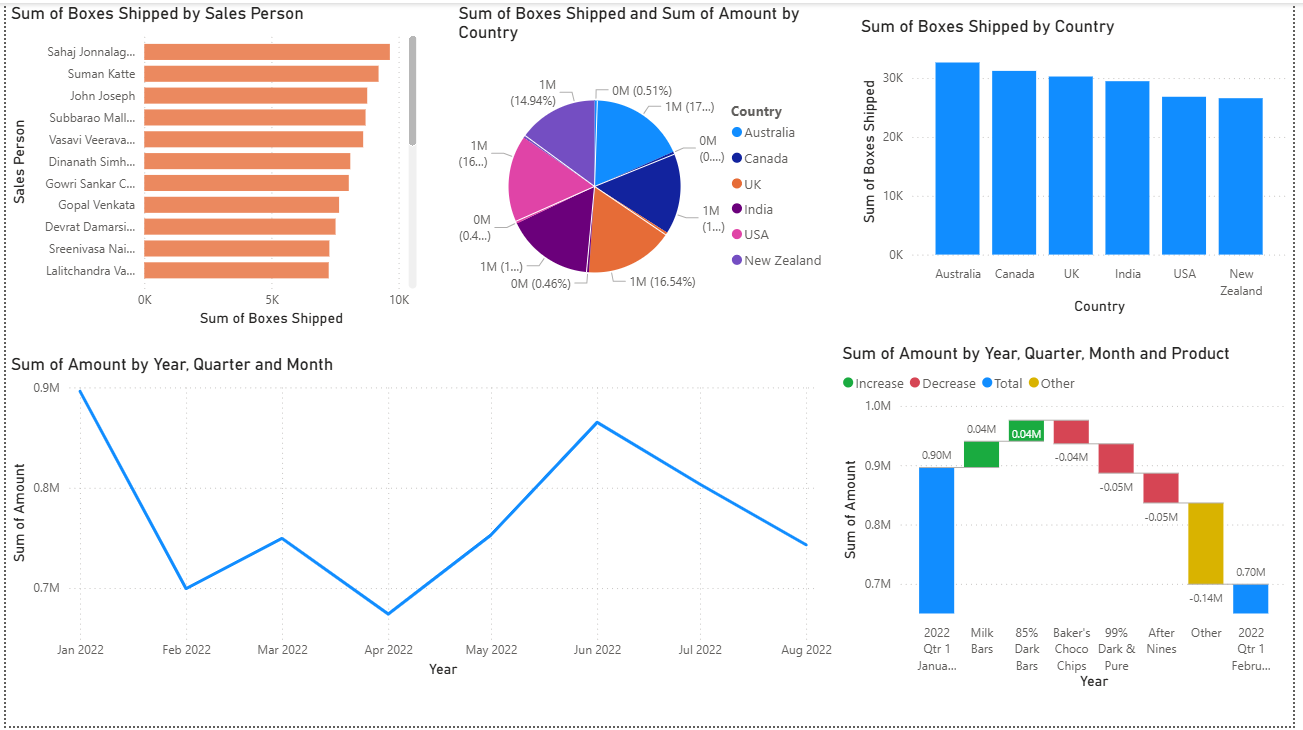

The page's visual inventory and layout, read from the dashboard file:
{"tool":"powerbi","page":{"name":"Page 1","canvas":[1280,720],"ordinal":0},"visuals":[{"type":"barChart","fields":{"Category":["data.Sales Person"],"Y":["Sum(data.Boxes Shipped)"]},"box":[0,0,413.9,327.1],"z":0},{"type":"columnChart","fields":{"Category":["data.Country"],"Y":["Sum(data.Boxes Shipped)"]},"box":[846.2,12.8,433.8,302.9],"z":1000},{"type":"lineChart","fields":{"Y":["Sum(data.Amount)"],"Category":["data.Date.Variation.Date Hierarchy.Year","data.Date.Variation.Date Hierarchy.Quarter","data.Date.Variation.Date Hierarchy.Month","data.Date.Variation.Date Hierarchy.Day"]},"box":[0,349.9,827.4,326.6],"z":2000},{"type":"waterfallChart","fields":{"Category":["data.Date.Variation.Date Hierarchy.Year","data.Date.Variation.Date Hierarchy.Quarter","data.Date.Variation.Date Hierarchy.Month"],"Breakdown":["data.Product"],"Y":["Sum(data.Amount)"]},"box":[827.4,338.9,452.8,349.9],"z":3000},{"type":"pieChart","fields":{"Y":["Sum(data.Boxes Shipped)","Sum(data.Amount)"],"Category":["data.Country"]},"box":[445.2,0,381.2,327.1],"z":3001}]}

Visuals, with their boxes in screenshot pixels (x1, y1, x2, y2), scaled from the page's 1280x720 canvas onto the 1303x730 screenshot:
barChart - data.Sales Person x Sum(data.Boxes Shipped): <bbox>0, 0, 421, 332</bbox>
columnChart - data.Country x Sum(data.Boxes Shipped): <bbox>861, 13, 1302, 320</bbox>
lineChart - Sum(data.Amount) x data.Date.Variation.Date Hierarchy.Year: <bbox>0, 355, 842, 686</bbox>
waterfallChart - data.Date.Variation.Date Hierarchy.Year x data.Date.Variation.Date Hierarchy.Quarter: <bbox>842, 344, 1302, 698</bbox>
pieChart - Sum(data.Boxes Shipped) x Sum(data.Amount): <bbox>453, 0, 841, 332</bbox>
